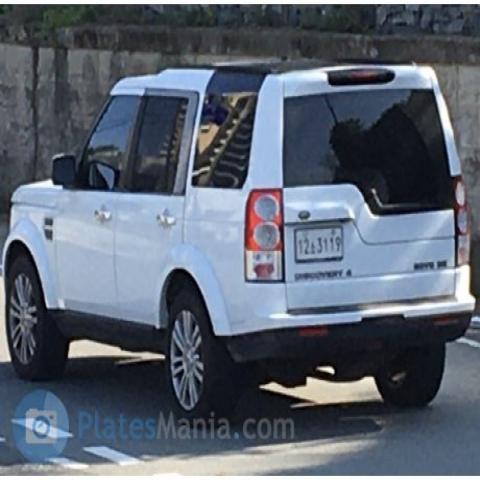LP: (291, 221, 354, 270)
